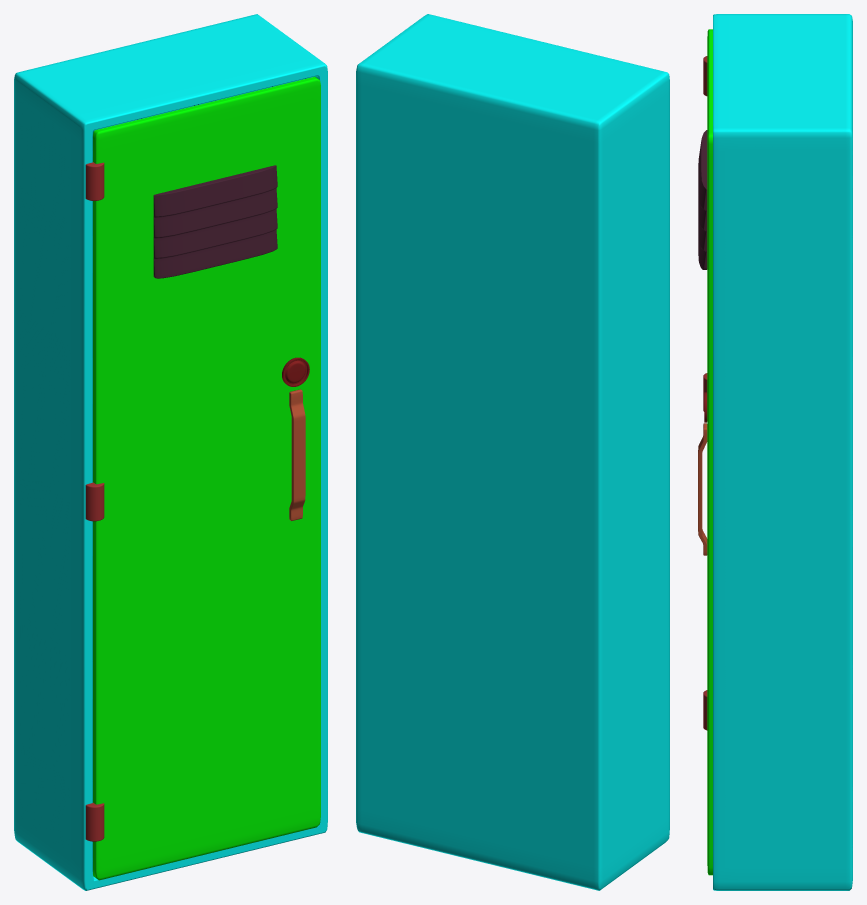
The model's file is Locker.fbx.
The picture shows the model from 3 angles, left to right: view 1: azimuth 30°, elevation 25°; view 2: azimuth 150°, elevation 25°; view 3: azimuth 270°, elevation 25°; orthographic projection.
Parts seen in each view (by area): view 1: LockerDoor_High (×5), LockerMain_High; view 2: LockerMain_High; view 3: LockerMain_High, LockerDoor_High (×4).
Part boxes in pixels (bbox=[...]): LockerDoor_High (×5): bbox=[85, 76, 320, 880]; LockerMain_High: bbox=[14, 14, 327, 890]; LockerMain_High: bbox=[356, 14, 669, 890]; LockerMain_High: bbox=[713, 14, 852, 890]; LockerDoor_High (×4): bbox=[698, 29, 712, 875].
Size of the model in its own units: 2 by 6 by 1.11.
